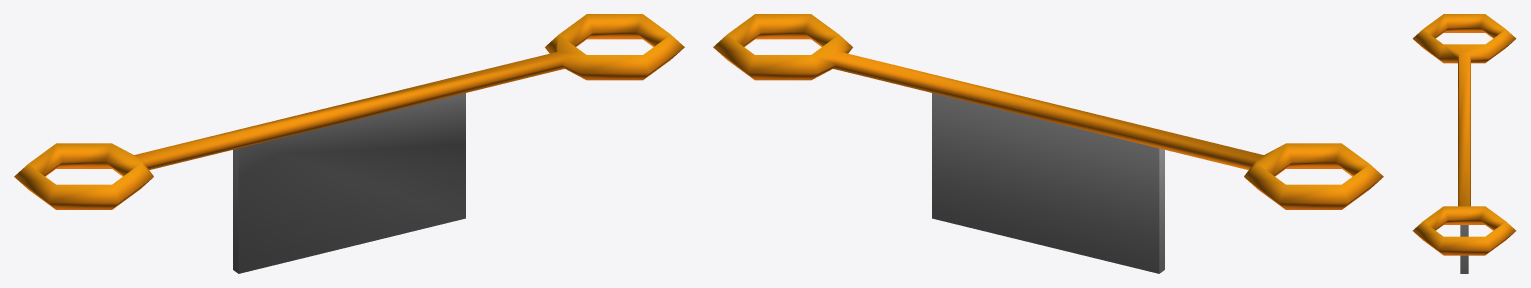
File: Safety Sign.glb
3 views of the same model, side by side, from view 1: azimuth 30°, elevation 25°; view 2: azimuth 150°, elevation 25°; view 3: azimuth 270°, elevation 25° (orthographic). The views are drawn at different scales.
Visible parts, largest first — view 1: Saftey Sign; view 2: Saftey Sign; view 3: Saftey Sign.
Boxes of the visible parts, x1=… form: Saftey Sign: x1=14, y1=14, x2=684, y2=273; Saftey Sign: x1=713, y1=14, x2=1383, y2=273; Saftey Sign: x1=1412, y1=14, x2=1516, y2=273.
Size of the model in its own units: 5.01 by 1.09 by 0.9567.
Materials: 1 (1 with a texture image).
